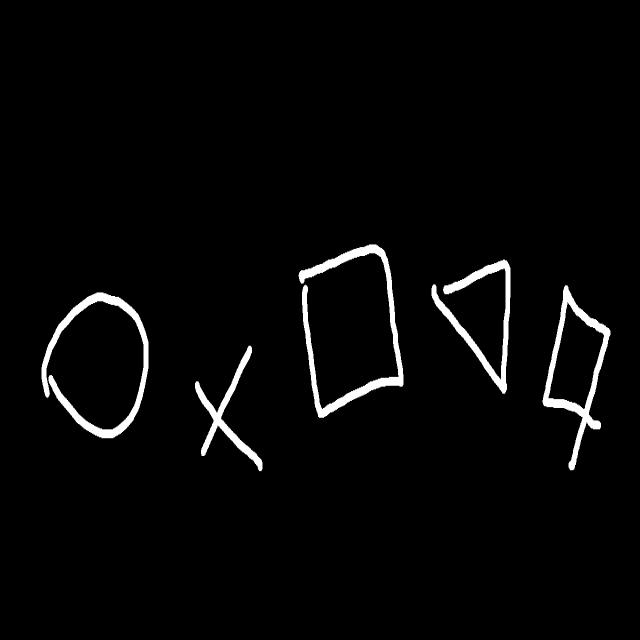Circle: (42, 292, 148, 439)
Cross: (195, 346, 262, 470)
Diamond: (544, 286, 610, 470)
Square: (298, 244, 404, 418)
Triangle: (431, 260, 510, 393)
